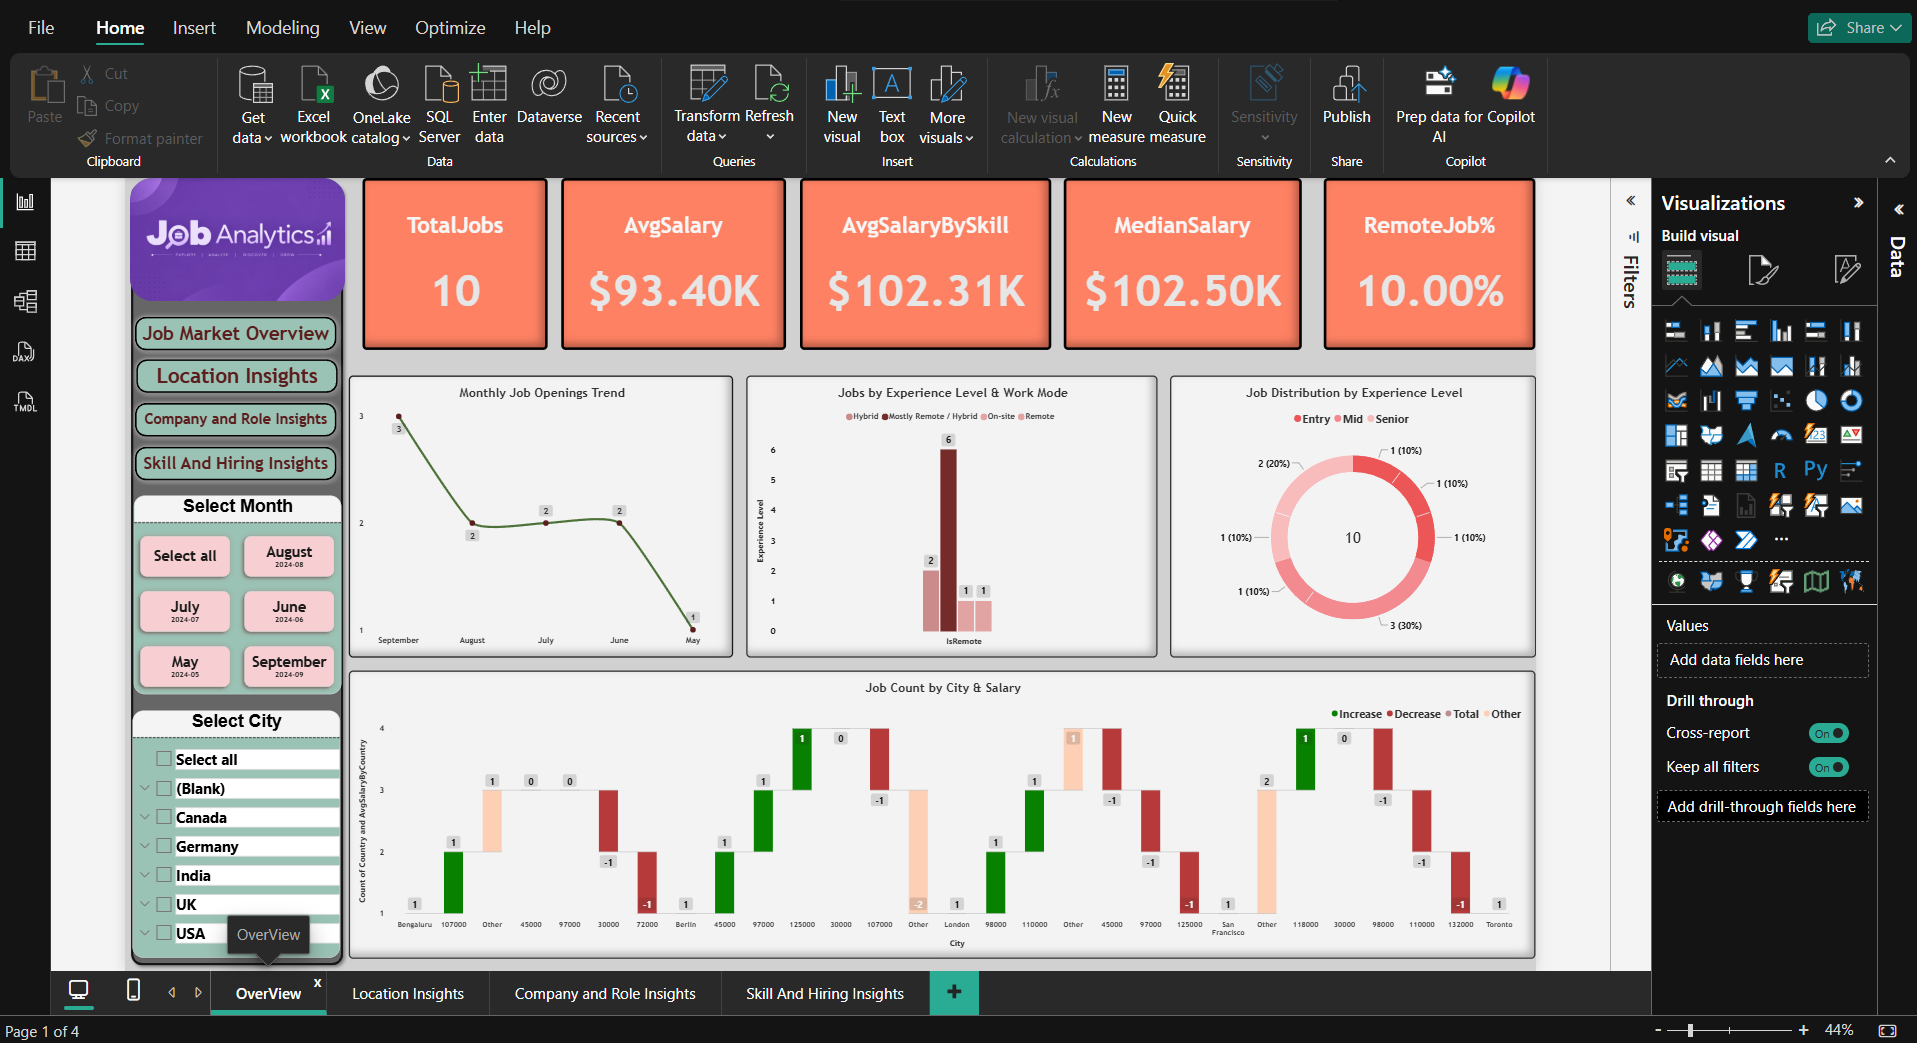

This screenshot's page, from the dashboard's own definition file:
{"tool":"powerbi","page":{"name":"OverView","canvas":[2560,1440],"ordinal":0},"visuals":[{"type":"cardVisual","title":"Avg Salary","fields":{"Data":["Fact_Jobs.AvgSalary"]},"box":[792,0,408,312],"z":0},{"type":"cardVisual","title":"Avg Sal By Exp","fields":{"Data":["Dim_Skills.AvgSalaryBySkill"]},"box":[1224,0,456,312],"z":1000},{"type":"cardVisual","title":"Median Salary","fields":{"Data":["Fact_Jobs.MedianSalary"]},"box":[1704,0,432,312],"z":2000},{"type":"shape","box":[0,0,407,1439.5],"z":3000},{"type":"lineChart","title":"Monthly Job Openings Trend","fields":{"Category":["Dim_Date.MonthName"],"Y":["Fact_Jobs.TotalJobs"]},"box":[407,358.1,697.7,511.6],"z":4000},{"type":"clusteredColumnChart","title":"Jobs by Experience Level & Work Mode","fields":{"Series":["Fact_Jobs.IsRemote"],"Y":["CountNonNull(Fact_Jobs.Experience_Level)"]},"box":[1127.9,358.1,746.5,511.6],"z":5000},{"type":"slicer","title":"Select City","fields":{"Values":["Dim_Locations.Country","Dim_Locations.City"]},"box":[14,967.4,376.7,448.8],"z":6000},{"type":"donutChart","title":"Job Distribution by Experience Level","fields":{"Category":["Fact_Jobs.Experience_Level"],"Series":["Fact_Jobs.IsRemote"],"Y":["Fact_Jobs.TotalJobs"]},"box":[1895.4,358.1,665.1,511.6],"z":7000},{"type":"waterfallChart","title":"Job Count by City & Salary","fields":{"Breakdown":["Fact_Jobs.Salary_USD"],"Category":["Dim_Locations.City"],"Y":["Count(Dim_Locations.Country)"]},"box":[407,893,2153.5,523.3],"z":8000},{"type":"advancedSlicerVisual","title":"Select Month","fields":{"Label":["Min(Dim_Date.YearMonth)"],"Values":["Dim_Date.MonthName"]},"box":[16.3,576.7,376.7,360.5],"z":9000},{"type":"cardVisual","fields":{"Data":["Fact_Jobs.TotalJobs"]},"box":[420.9,0,334.9,311.6],"z":10000},{"type":"cardVisual","fields":{"Data":["Fact_Jobs.RemoteJob%"]},"box":[2155.8,0,404.7,311.6],"z":11000},{"type":"actionButton","box":[25.6,246.5,160.5,127.9],"z":12000},{"type":"actionButton","box":[204.7,246.5,160.5,127.9],"z":13000},{"type":"actionButton","box":[25.6,395.3,162.8,127.9],"z":14000},{"type":"actionButton","box":[207,395.3,158.1,127.9],"z":15000},{"type":"textbox","box":[16.3,51.2,374.4,155.8],"z":16000}]}

Visuals, with their boxes on the page's 2560x1440 design canvas (x1, y1, x2, y2). These are canvas units, not pixel positions in the 1917x1043 screenshot, which may show the page scaled, cropped or inside an application window:
"Avg Salary" cardVisual: {"left": 792, "top": 0, "right": 1200, "bottom": 312}
"Avg Sal By Exp" cardVisual: {"left": 1224, "top": 0, "right": 1680, "bottom": 312}
"Median Salary" cardVisual: {"left": 1704, "top": 0, "right": 2136, "bottom": 312}
shape: {"left": 0, "top": 0, "right": 407, "bottom": 1440}
"Monthly Job Openings Trend" lineChart: {"left": 407, "top": 358, "right": 1105, "bottom": 870}
"Jobs by Experience Level & Work Mode" clusteredColumnChart: {"left": 1128, "top": 358, "right": 1874, "bottom": 870}
"Select City" slicer: {"left": 14, "top": 967, "right": 391, "bottom": 1416}
"Job Distribution by Experience Level" donutChart: {"left": 1895, "top": 358, "right": 2560, "bottom": 870}
"Job Count by City & Salary" waterfallChart: {"left": 407, "top": 893, "right": 2560, "bottom": 1416}
"Select Month" advancedSlicerVisual: {"left": 16, "top": 577, "right": 393, "bottom": 937}
cardVisual - Fact_Jobs.TotalJobs: {"left": 421, "top": 0, "right": 756, "bottom": 312}
cardVisual - Fact_Jobs.RemoteJob%: {"left": 2156, "top": 0, "right": 2560, "bottom": 312}
actionButton: {"left": 26, "top": 246, "right": 186, "bottom": 374}
actionButton: {"left": 205, "top": 246, "right": 365, "bottom": 374}
actionButton: {"left": 26, "top": 395, "right": 188, "bottom": 523}
actionButton: {"left": 207, "top": 395, "right": 365, "bottom": 523}
textbox: {"left": 16, "top": 51, "right": 391, "bottom": 207}
